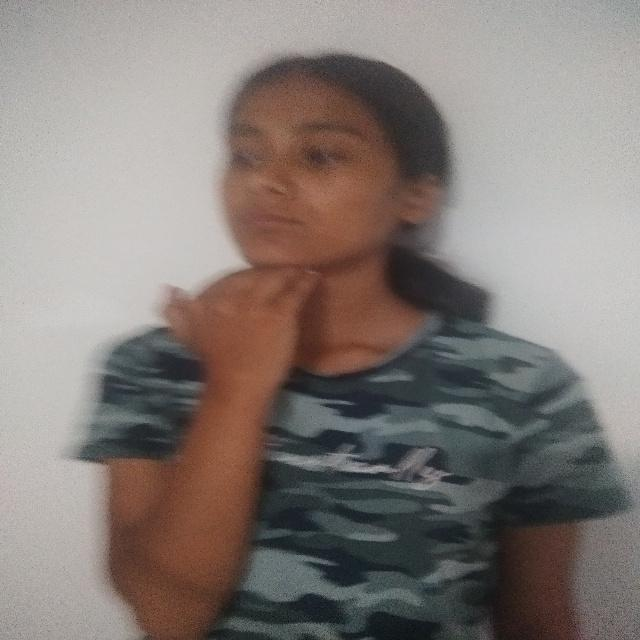Chin Flick: (151, 29, 468, 403)
